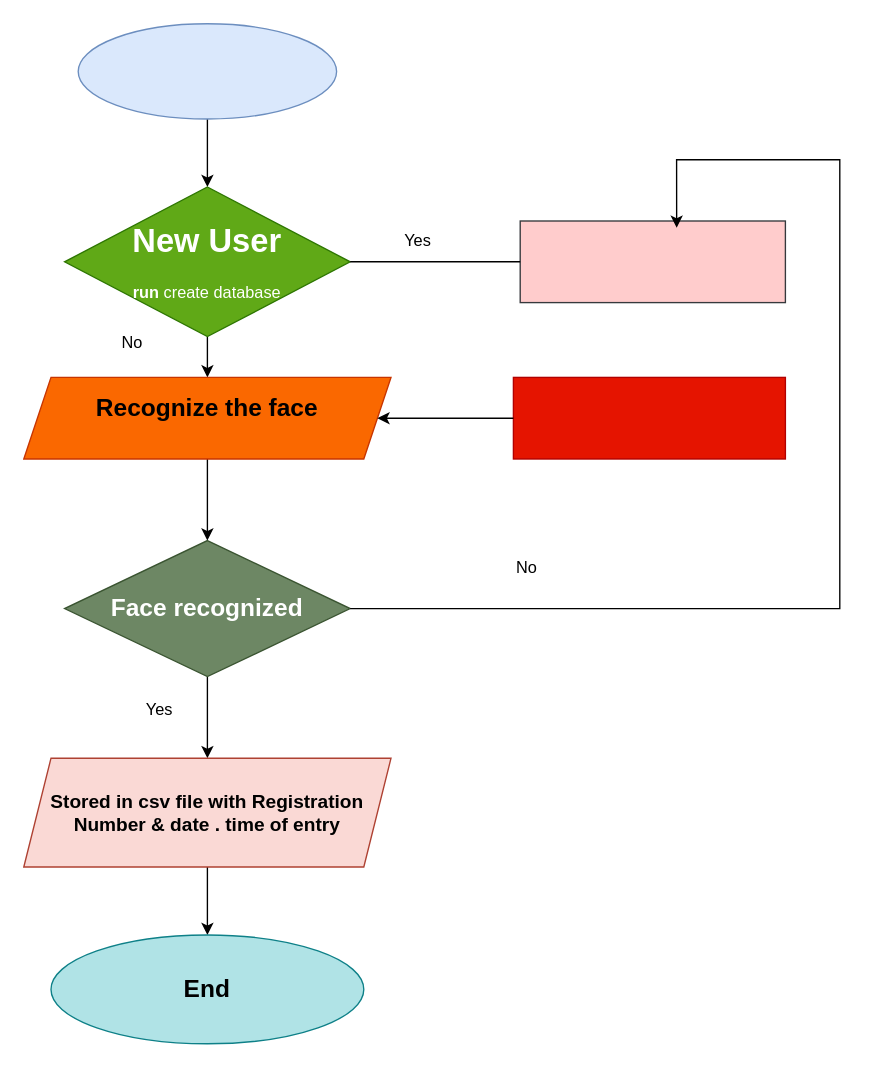
Some shapes in this 874 by 1068 pixel diagram are drawn without their labels. The shapes that lost their labels are listed below. From the top down, each one's centre as x and y in pixels, then its label:
At [207,70]: "Start".
At [652,261]: "Give your Photograph".
At [648,417]: "Store the face data in folder on your name".
